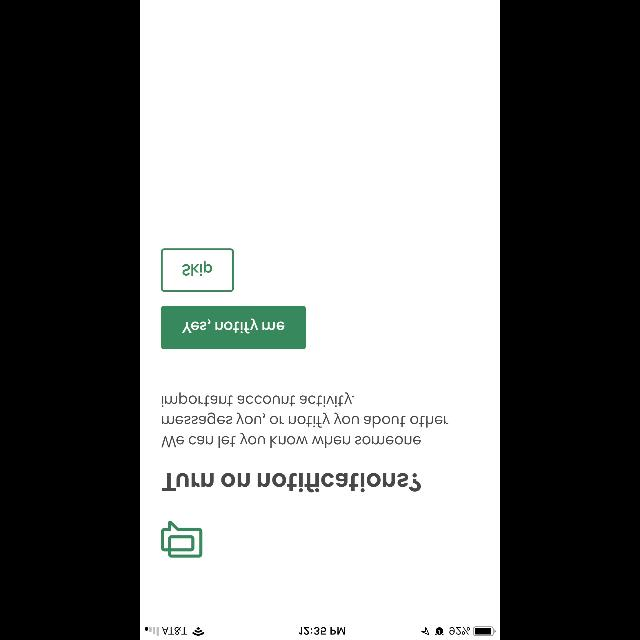icon: (161, 520, 203, 558)
text: (162, 392, 448, 448), (162, 473, 420, 493)
textbutton: (162, 306, 306, 350), (162, 248, 234, 292)
uppertaskbar: (140, 626, 500, 640)
